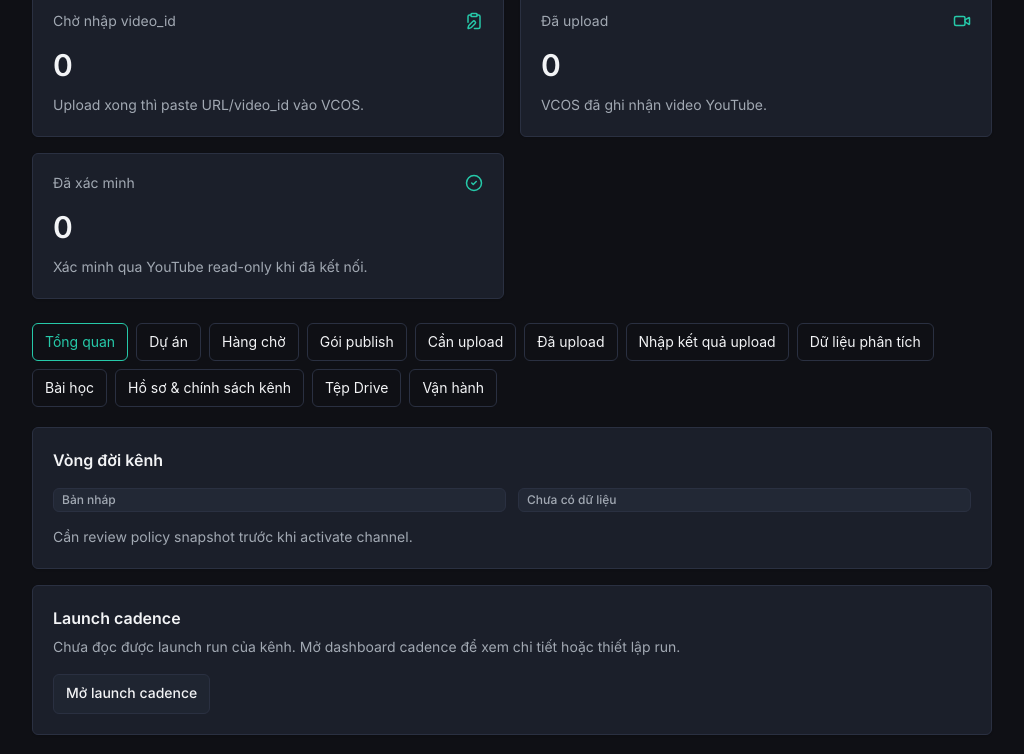
Test: ChannelWorkspaceView - Activation CTA › shows Vietnamese error on activation failure
(page scrolled)
Click the tab "Hồ sơ & chính sách kênh": (210, 388) [115, 369, 304, 407]
(page scrolled)
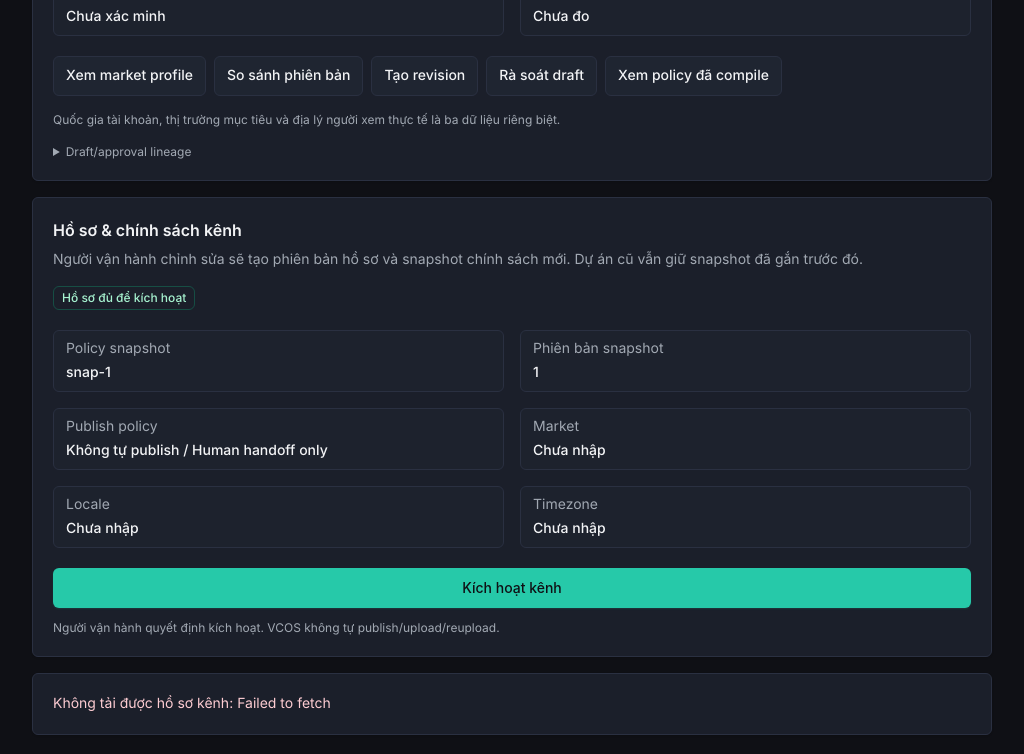
Click the button "Kích hoạt kênh": (512, 588) [53, 568, 971, 608]
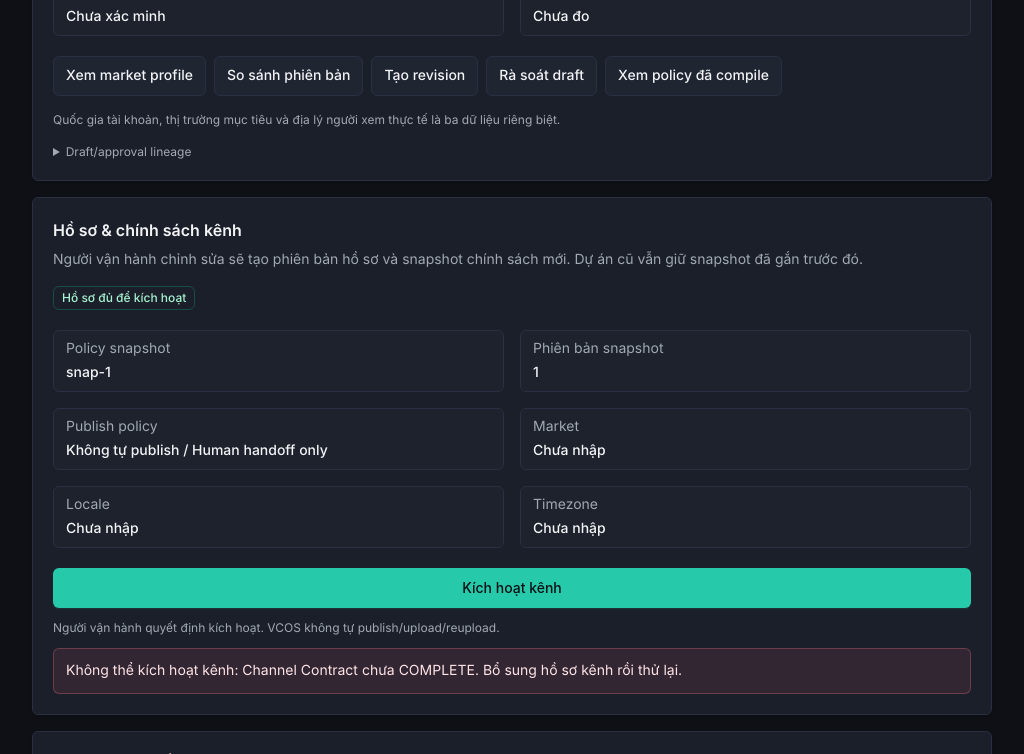
expect the text "Không thể kích hoạt kênh: Channel Contract chưa COMPLETE. Bổ sung hồ sơ kênh rồi thử lại." is shown: met, box [66, 662, 682, 679]
